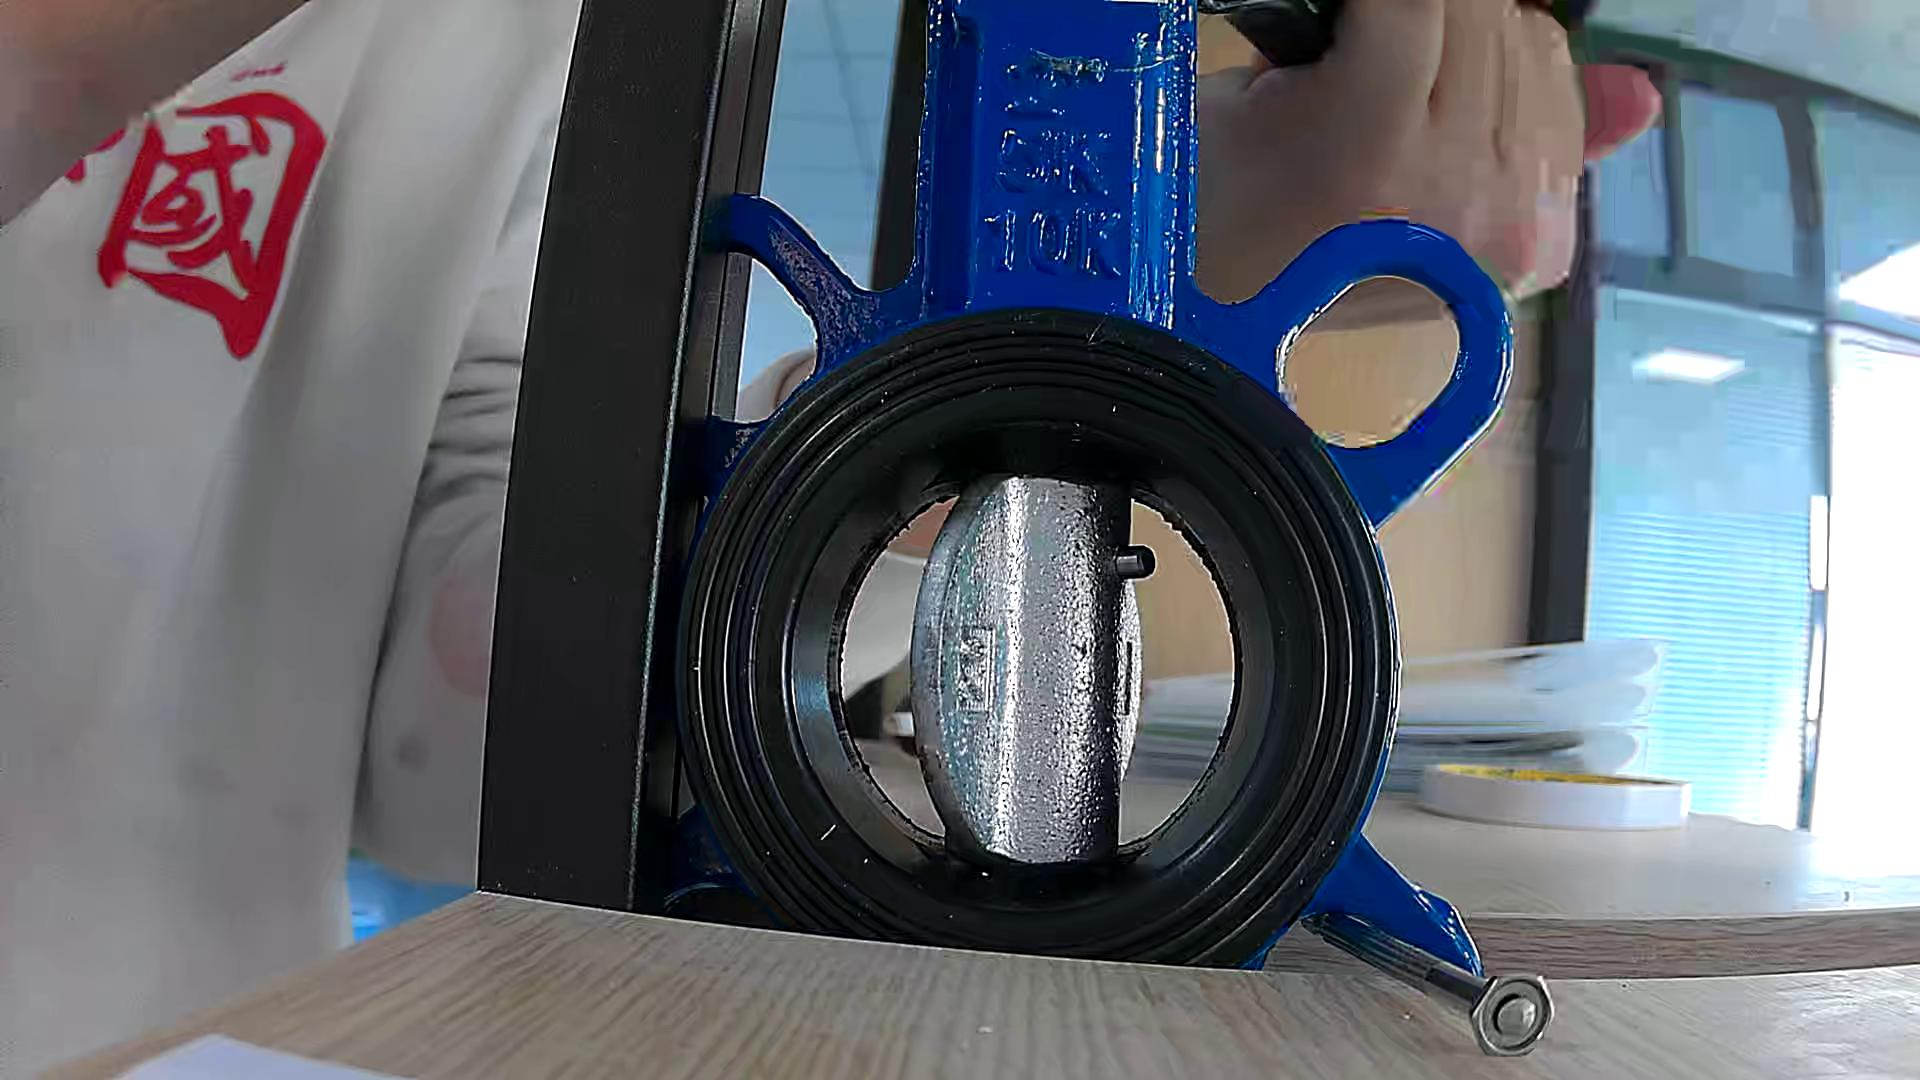valve: (911, 476, 1140, 866)
